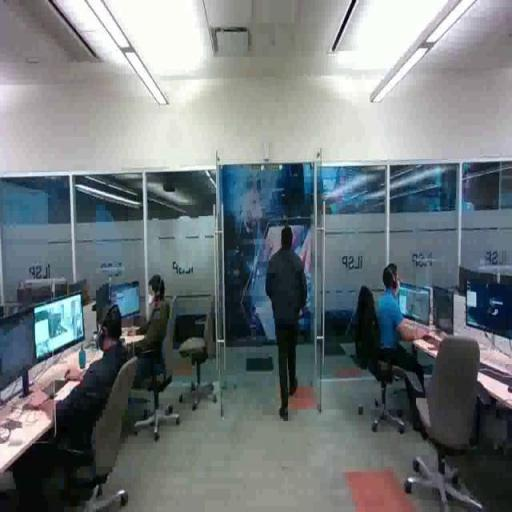person: (34, 300, 126, 512), (117, 273, 193, 442), (372, 266, 443, 436), (263, 218, 311, 423)
